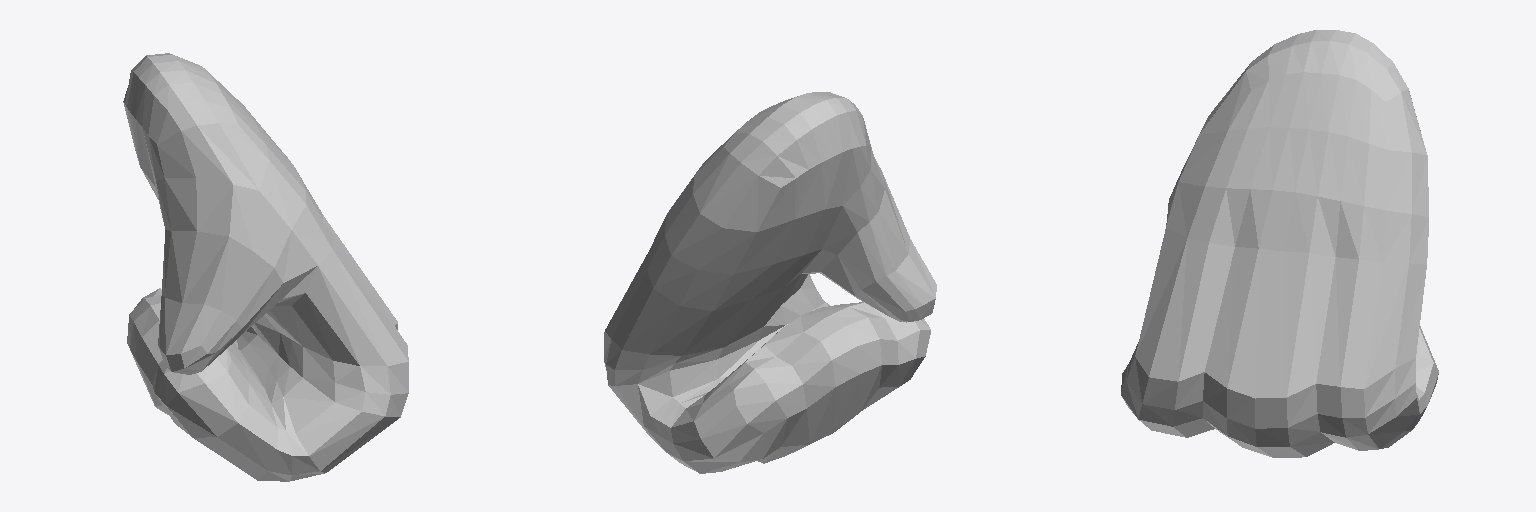
File: Hand_Grip_L.obj
The picture shows the model from 3 angles: view 1: azimuth 30°, elevation 25°; view 2: azimuth 150°, elevation 25°; view 3: azimuth 270°, elevation 25°; orthographic projection.
Parts seen in each view (by area): view 1: Hand_Grip_L; view 2: Hand_Grip_L; view 3: Hand_Grip_L.
Boxes of the visible parts, <box> form: Hand_Grip_L: <box>123,53,408,481</box>; Hand_Grip_L: <box>604,92,936,473</box>; Hand_Grip_L: <box>1121,30,1438,457</box>.
Size of the model in its own units: 0.2438 by 0.3432 by 0.2608.